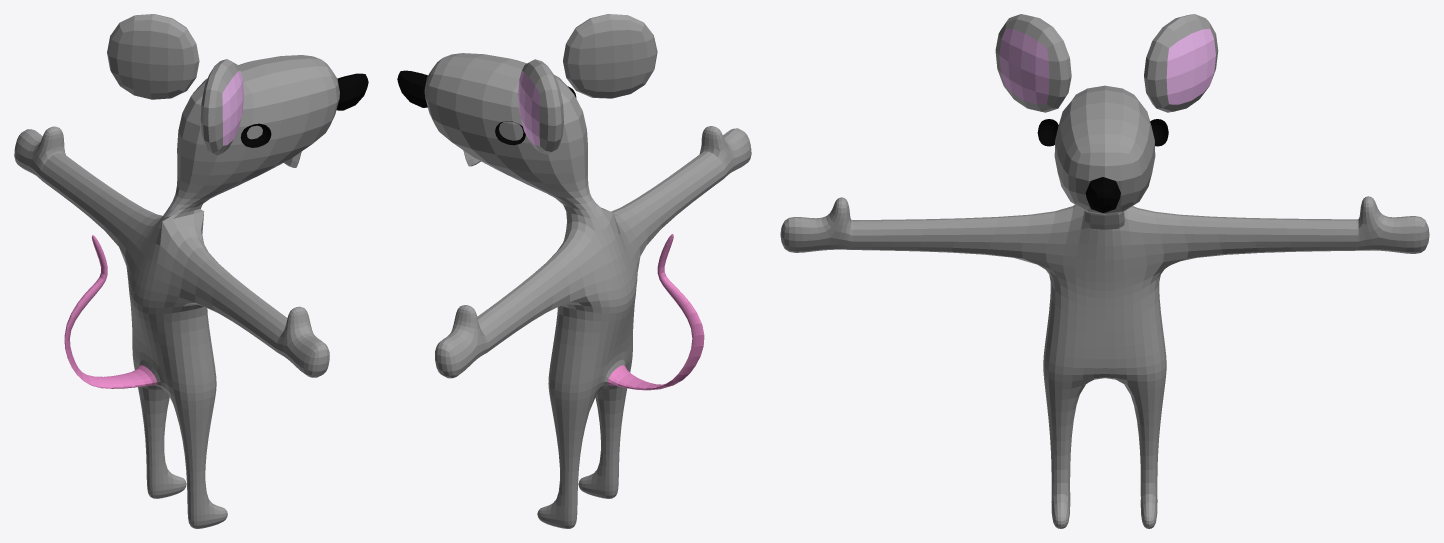
Rendered from Elraton.fbx.
The picture shows the model from 3 angles, left to right: view 1: azimuth 30°, elevation 25°; view 2: azimuth 150°, elevation 25°; view 3: azimuth 270°, elevation 25°; orthographic projection. The views are drawn at different scales.
Visible parts, largest first — view 1: Cube.004; view 2: Cube.004; view 3: Cube.004.
Boxes of the visible parts, left/top/right/bottom form: Cube.004: left=14, top=14, right=368, bottom=528; Cube.004: left=397, top=14, right=751, bottom=528; Cube.004: left=780, top=14, right=1429, bottom=528.
Bounding box in the file's own units: 285 × 424 × 491.
